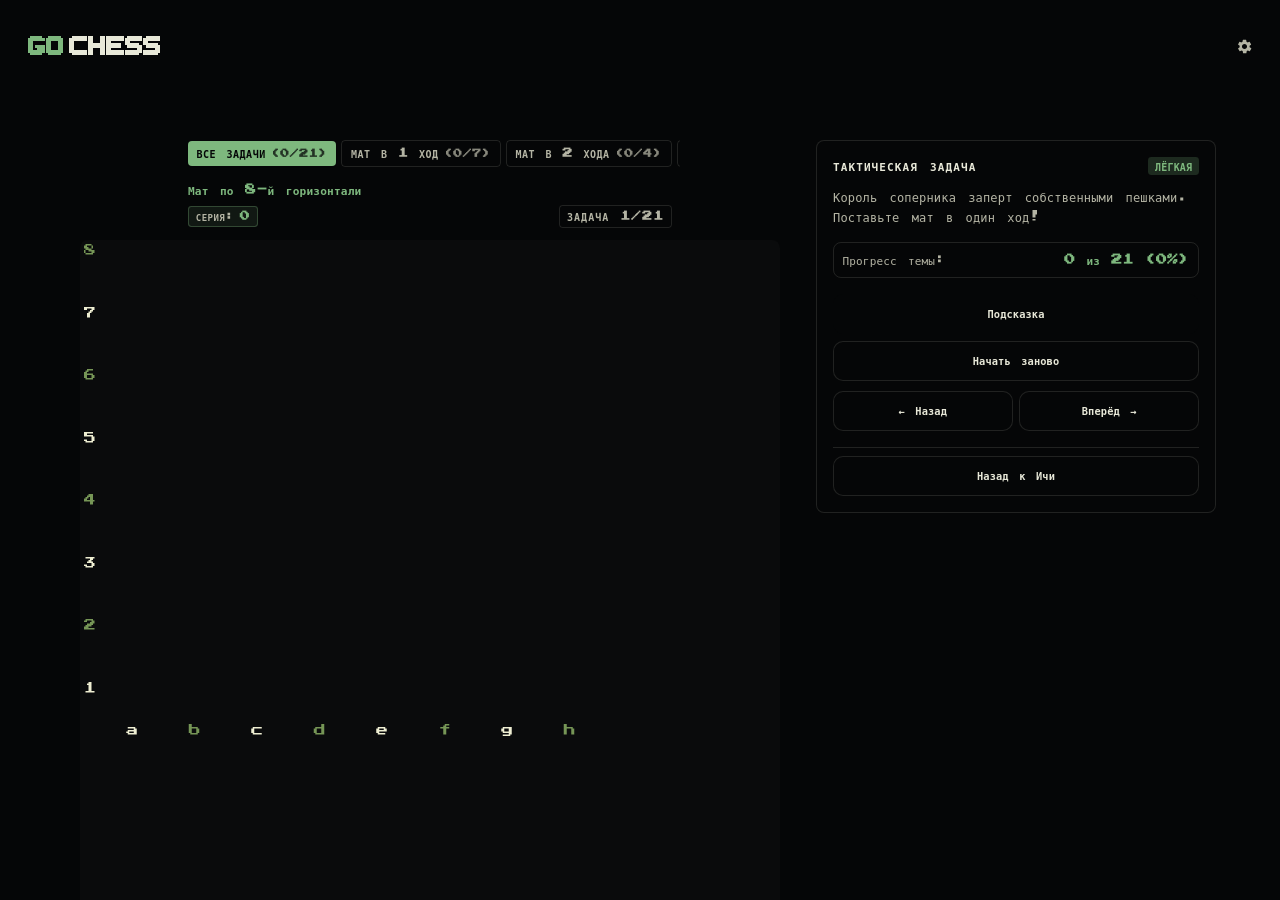
Test: IchiPuzzlesPage › opens and closes puzzle catalogue modal
Click the button "Задача 1/21": (616, 216) [559,204,672,228]
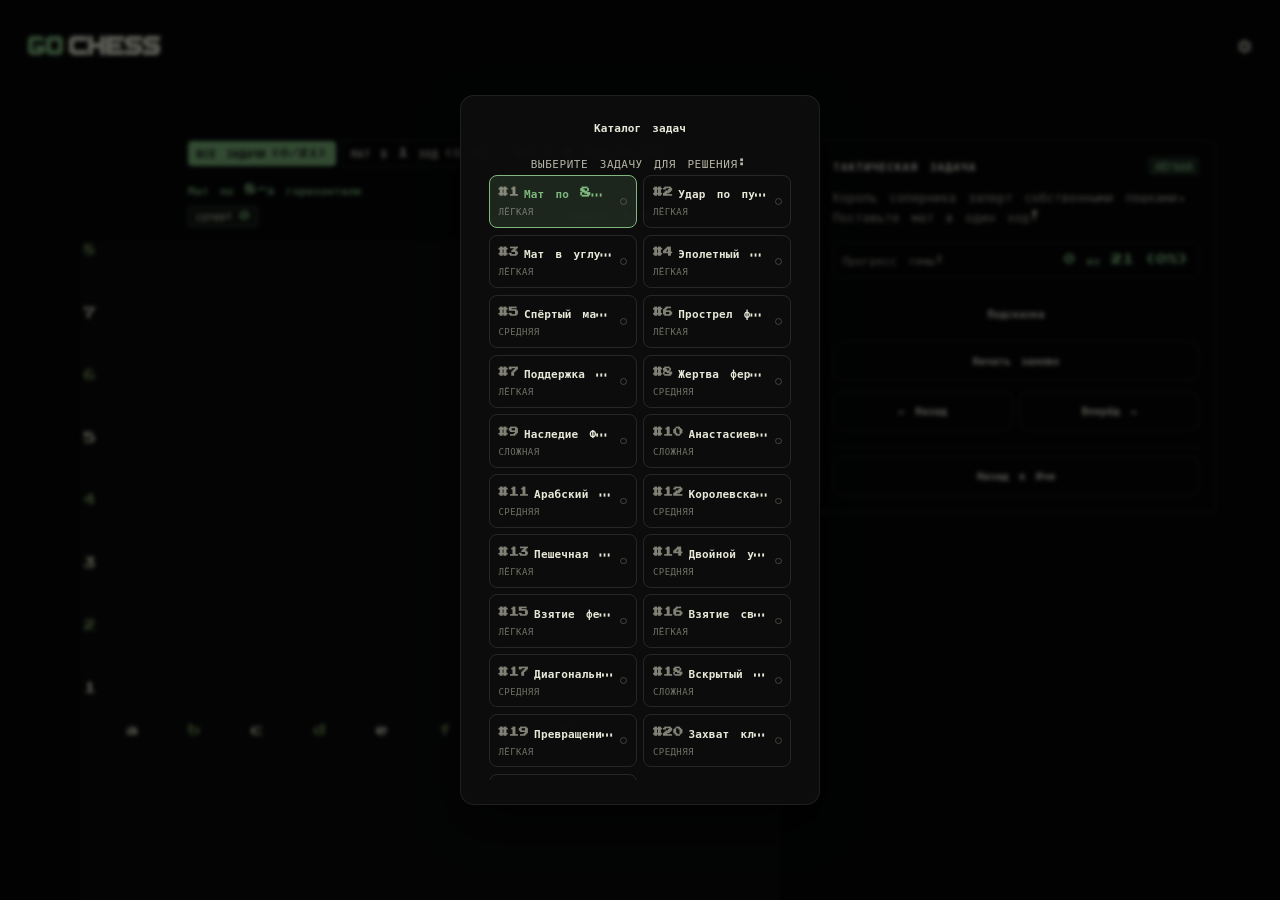
Check: the heading "Каталог задач" is shown, box [594,121,686,132]
Check: the text "Выберите задачу для решения:" is shown, box [531,157,749,168]
